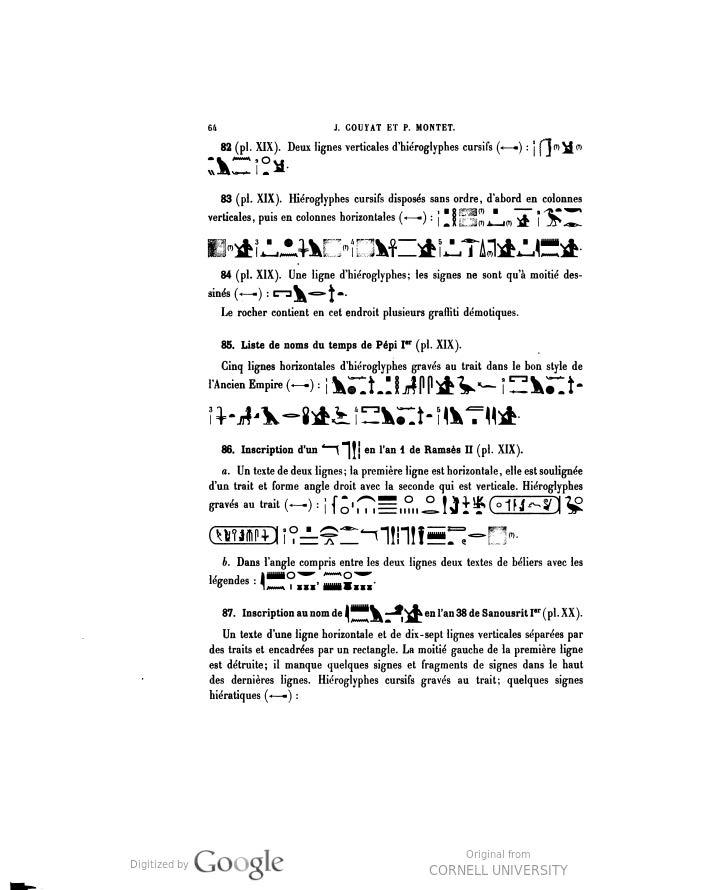circle: (486, 490, 567, 524), (201, 520, 287, 550)
